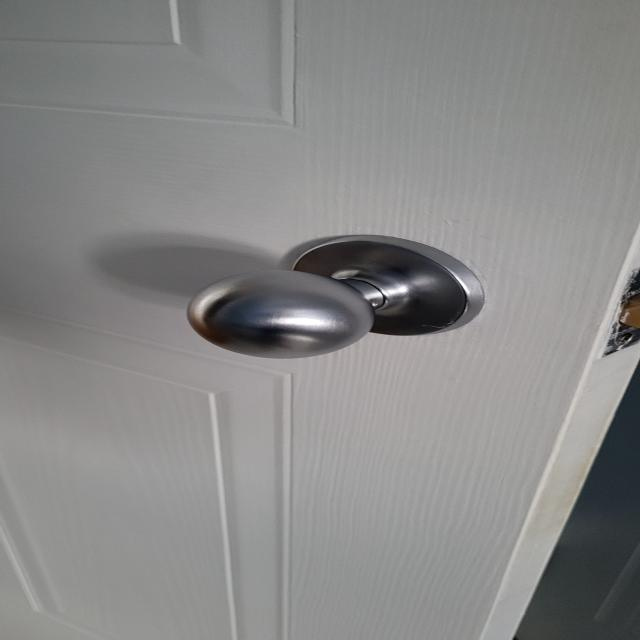door-knob: (187, 235, 484, 359)
